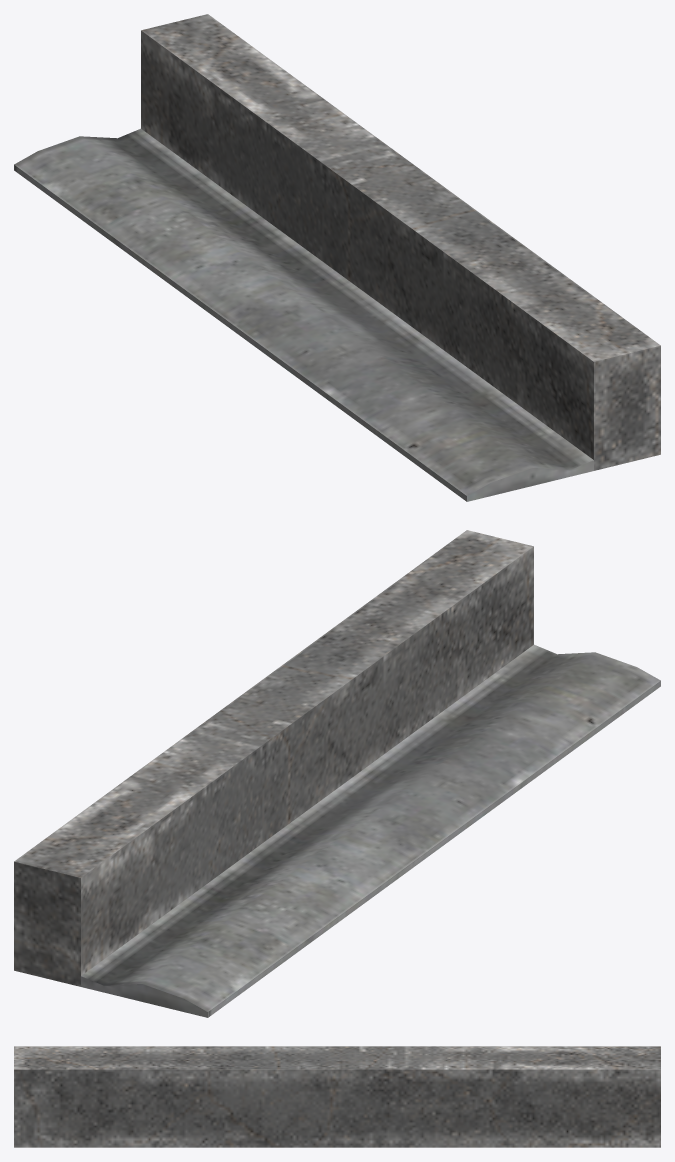
File: HH_Curbstone_A_1m.fbx
3 views of the same model, one above another, from view 1: azimuth 30°, elevation 25°; view 2: azimuth 150°, elevation 25°; view 3: azimuth 270°, elevation 25° (orthographic). The views are drawn at different scales.
Parts seen in each view (by area): view 1: HH_Curbstone_A_1m; view 2: HH_Curbstone_A_1m; view 3: HH_Curbstone_A_1m.
Boxes of the visible parts, x1,y1,x2,y2 form: HH_Curbstone_A_1m: [14, 14, 660, 501]; HH_Curbstone_A_1m: [14, 530, 660, 1017]; HH_Curbstone_A_1m: [14, 1046, 660, 1147].
Bounding box in the file's own units: 24.72 × 13.28 × 100.
